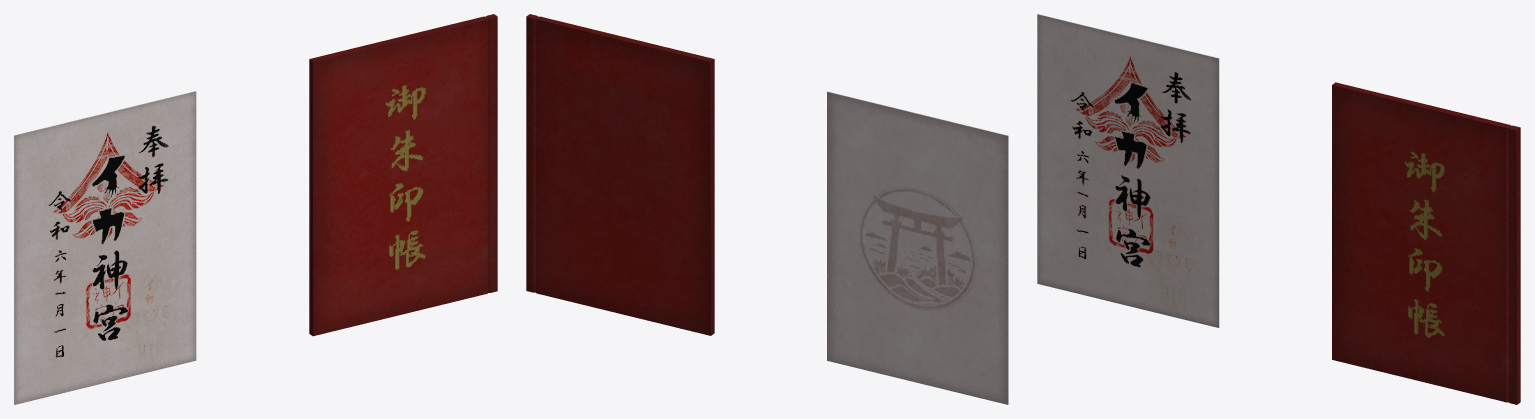
File: IKA_Gosyuin.fbx
3 renders of one model, left to right at view 1: azimuth 30°, elevation 25°; view 2: azimuth 150°, elevation 25°; view 3: azimuth 330°, elevation 25°, orthographic.
Visible parts, largest first — view 1: IKA_Gosyuin_L, IKA_Gosyuin, IKA_Gosyuin_R; view 2: IKA_Gosyuin_R, IKA_Gosyuin, IKA_Gosyuin_L; view 3: IKA_Gosyuin_L, IKA_Gosyuin, IKA_Gosyuin_R.
Boxes of the visible parts, x1,y1,x2,y2 form: IKA_Gosyuin_L: (311, 15, 497, 336); IKA_Gosyuin: (14, 91, 196, 404); IKA_Gosyuin_R: (309, 14, 495, 334); IKA_Gosyuin_R: (526, 15, 712, 335); IKA_Gosyuin: (827, 91, 1008, 404); IKA_Gosyuin_L: (528, 14, 714, 334); IKA_Gosyuin_L: (1332, 83, 1518, 404); IKA_Gosyuin: (1037, 14, 1219, 327); IKA_Gosyuin_R: (1334, 82, 1520, 403).
Bounding box in the file's own units: 0.3889 × 0.2122 × 0.00543.
